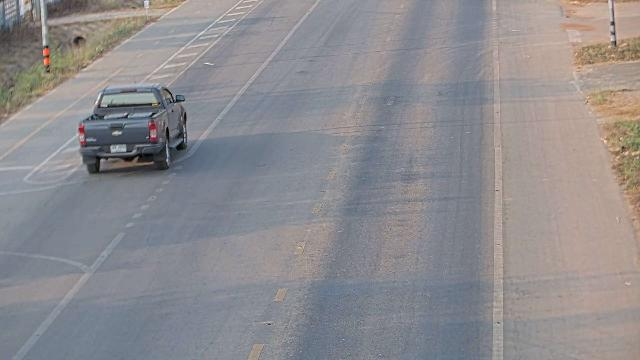pickup-truck: (77, 82, 188, 174)
